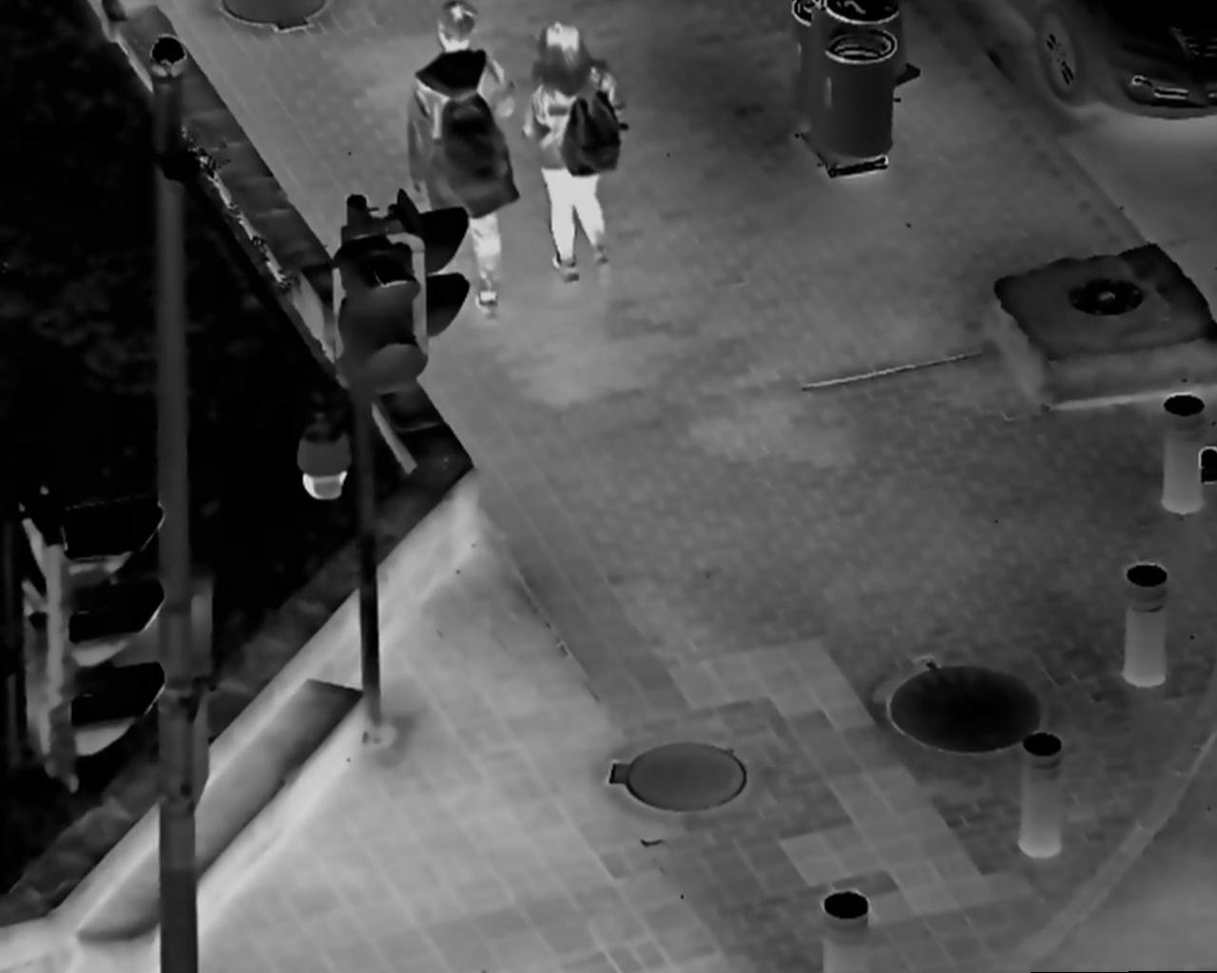person: (519, 21, 631, 295)
